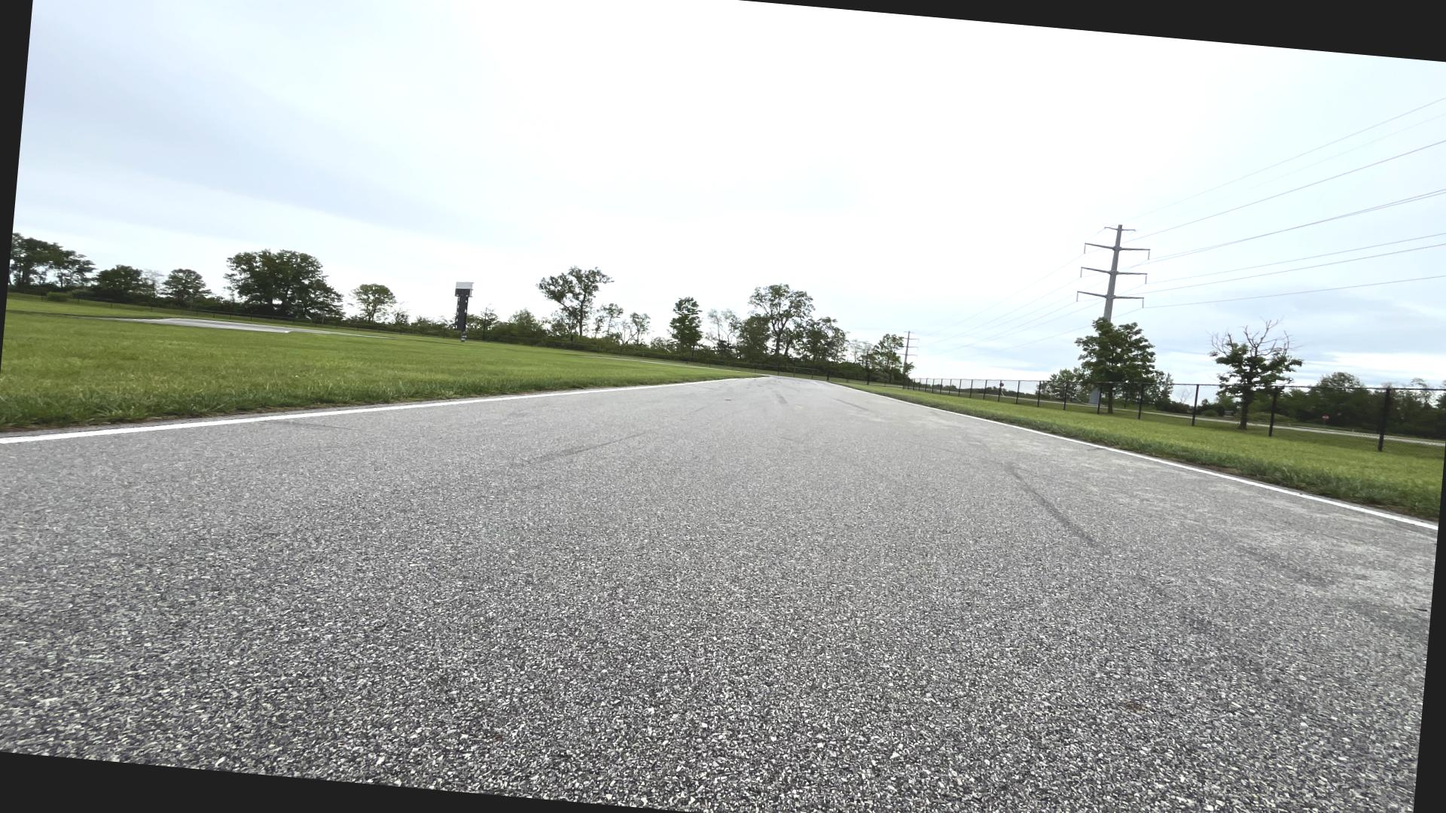white-line: (0, 415, 236, 445), (1303, 492, 1438, 533), (339, 397, 508, 415), (1115, 449, 1207, 473), (233, 408, 343, 424), (1045, 433, 1121, 453), (1248, 481, 1312, 501), (1199, 469, 1255, 486), (989, 420, 1048, 435), (582, 385, 660, 394), (505, 391, 582, 400), (948, 411, 993, 423), (838, 385, 880, 395), (909, 403, 953, 412), (659, 381, 718, 387), (877, 394, 912, 403), (719, 378, 759, 382), (826, 381, 842, 386), (758, 375, 773, 379)
